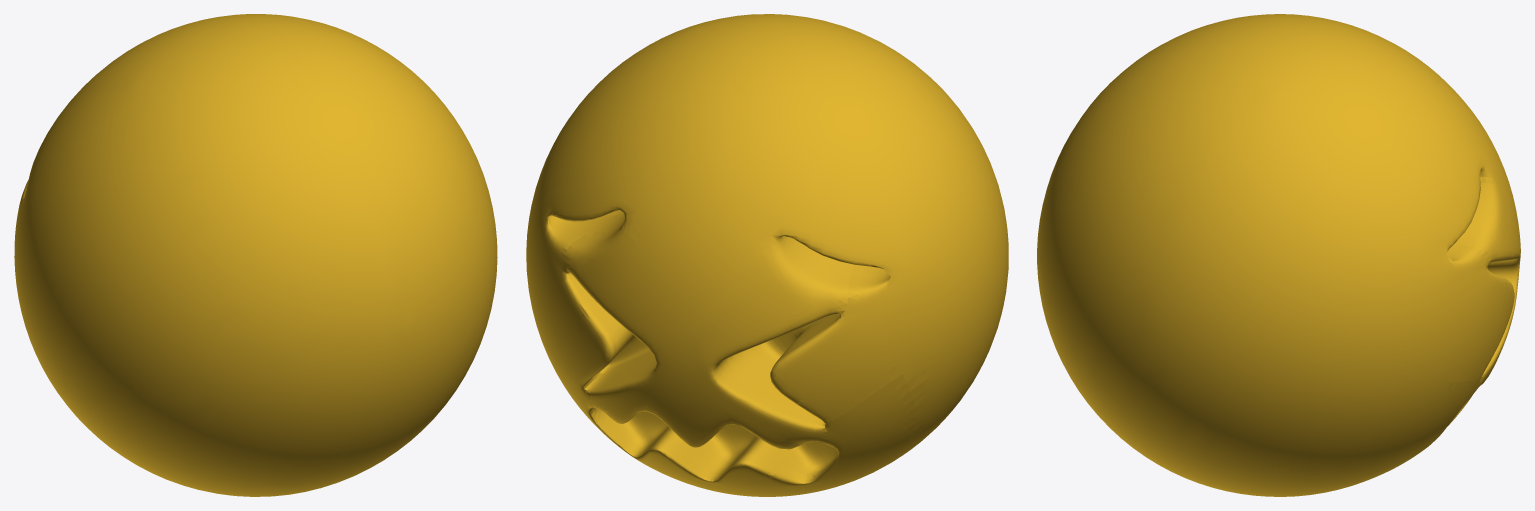
File: confounded_2.glb
3 renders of one model, left to right at view 1: azimuth 30°, elevation 25°; view 2: azimuth 150°, elevation 25°; view 3: azimuth 270°, elevation 25°, orthographic.
Parts seen in each view (by area): view 1: Group59187; view 2: Group59187; view 3: Group59187.
Boxes of the visible parts, bbox=[...] form: Group59187: bbox=[14, 14, 497, 496]; Group59187: bbox=[526, 14, 1008, 496]; Group59187: bbox=[1037, 14, 1520, 496].
Bounding box in the file's own units: 0.5228 × 0.5234 × 0.5245.
